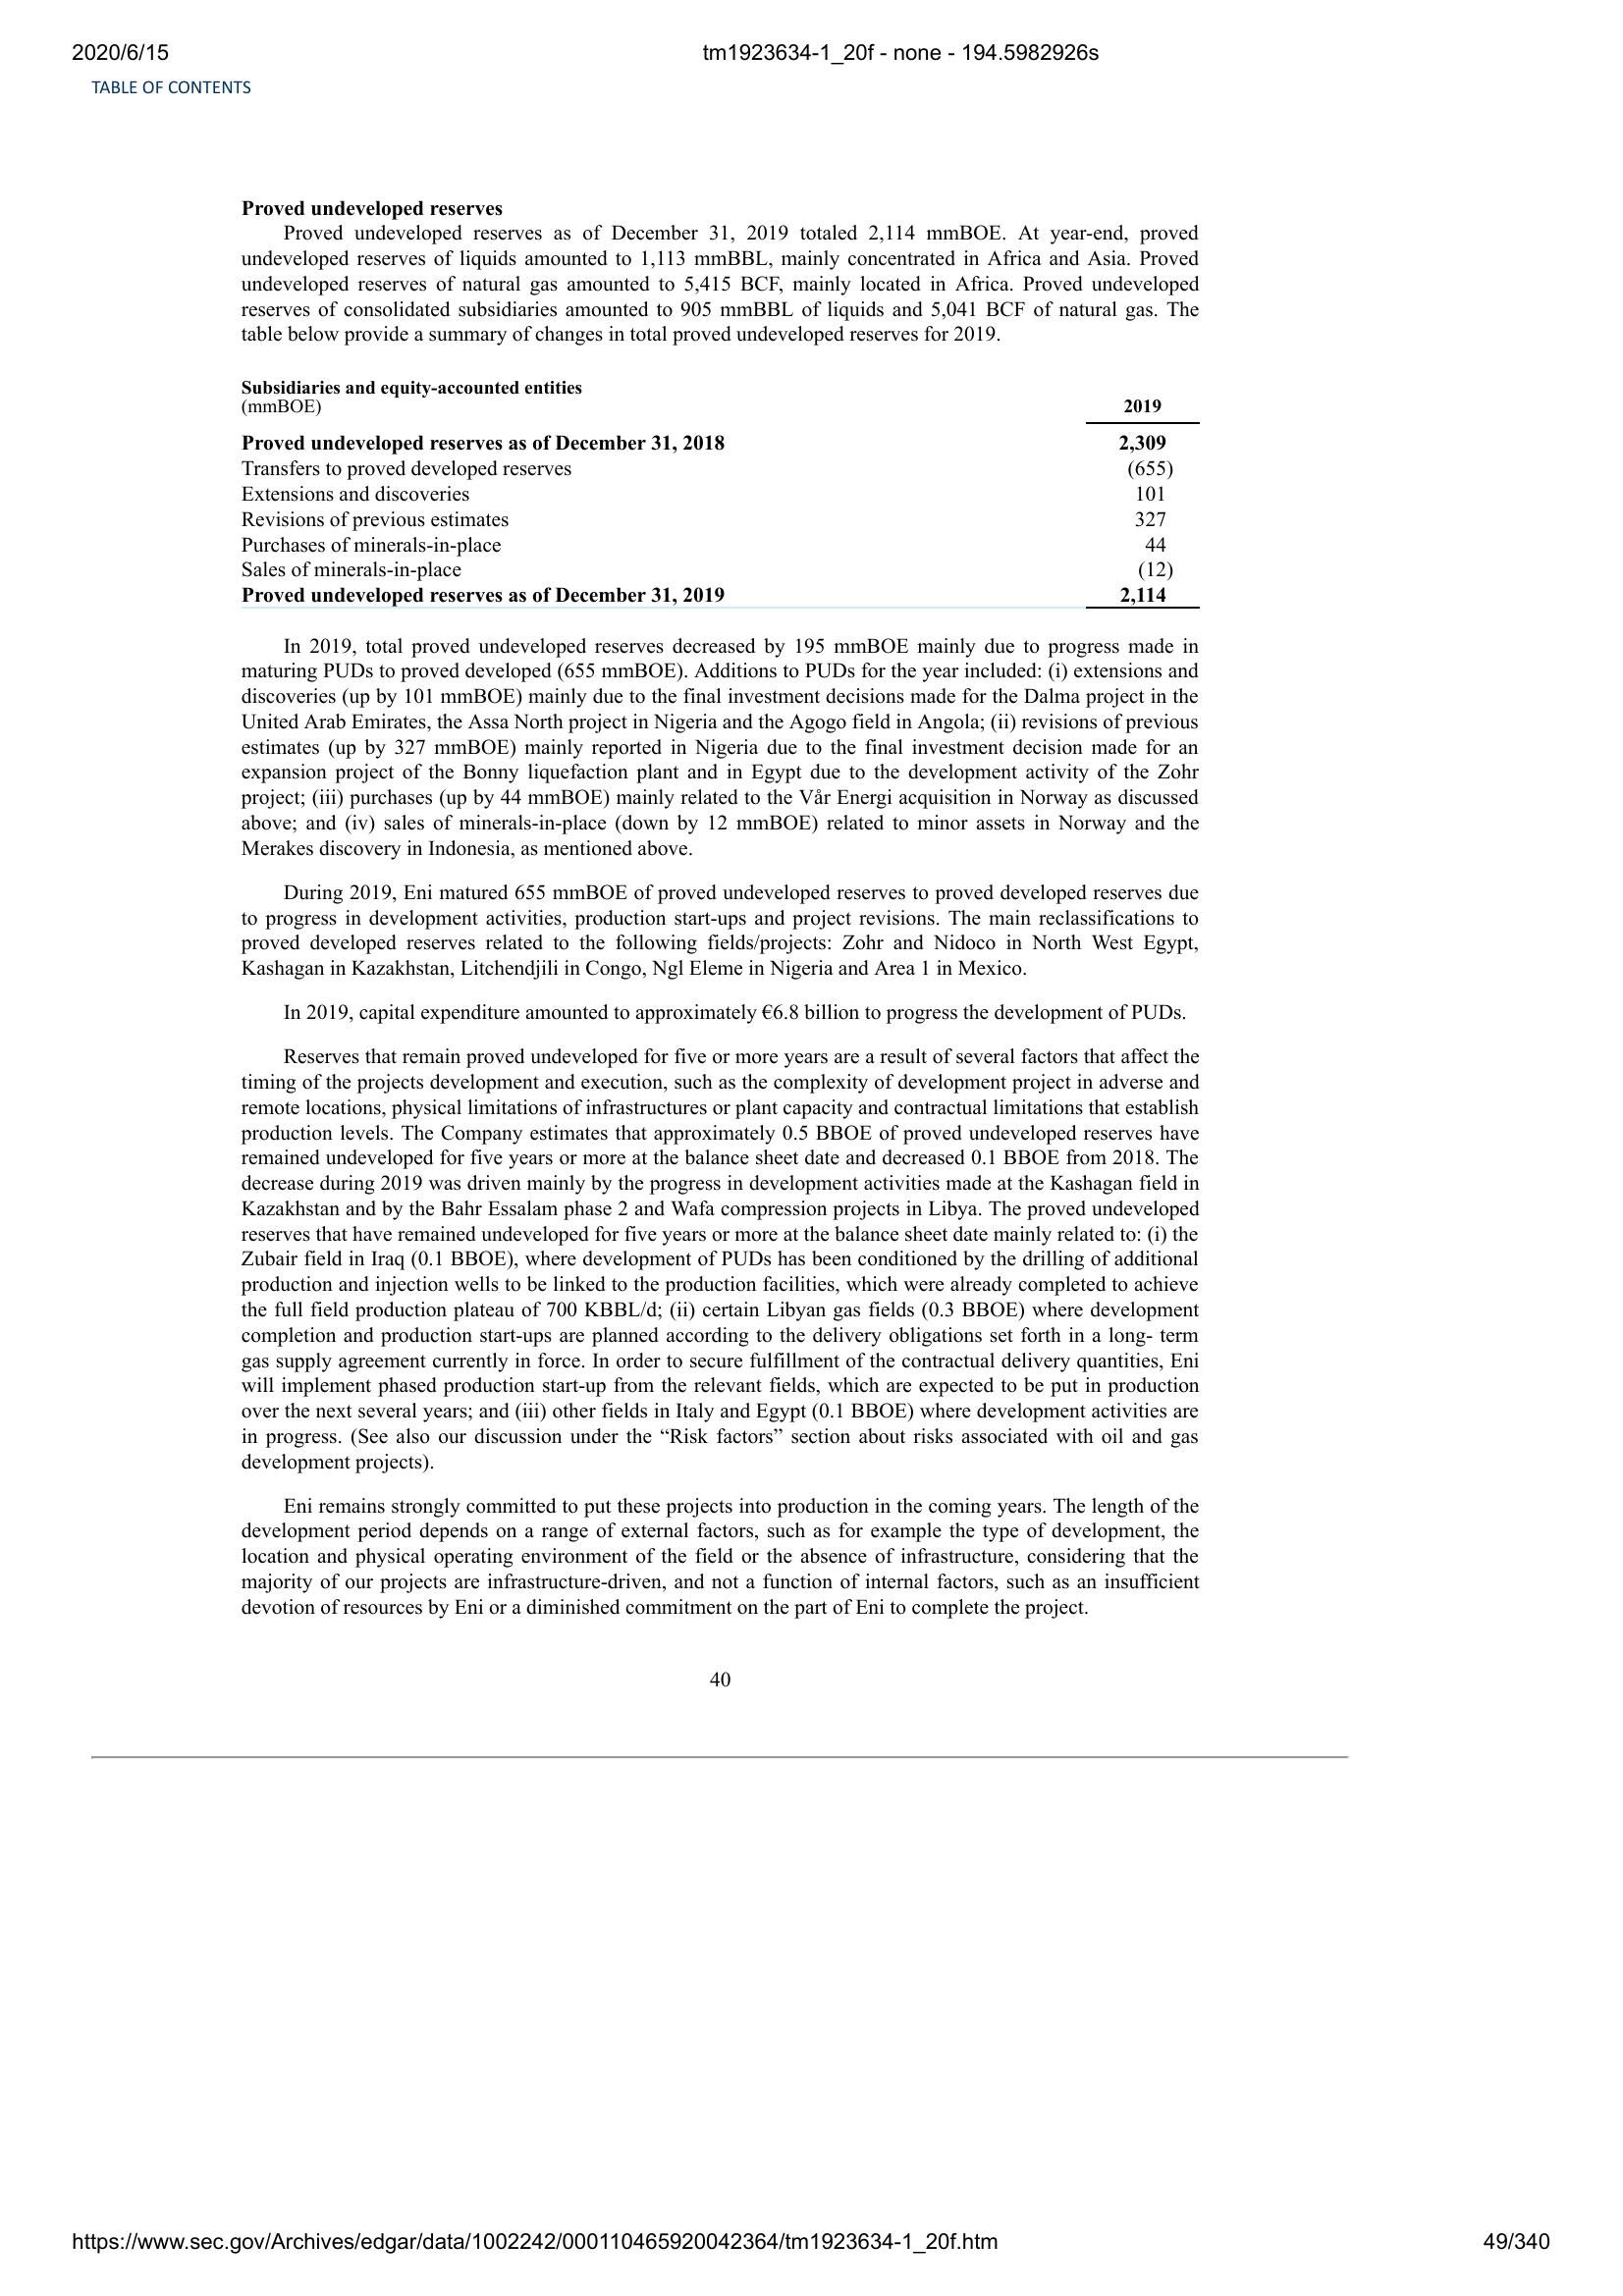table: (242, 395, 1208, 616)
